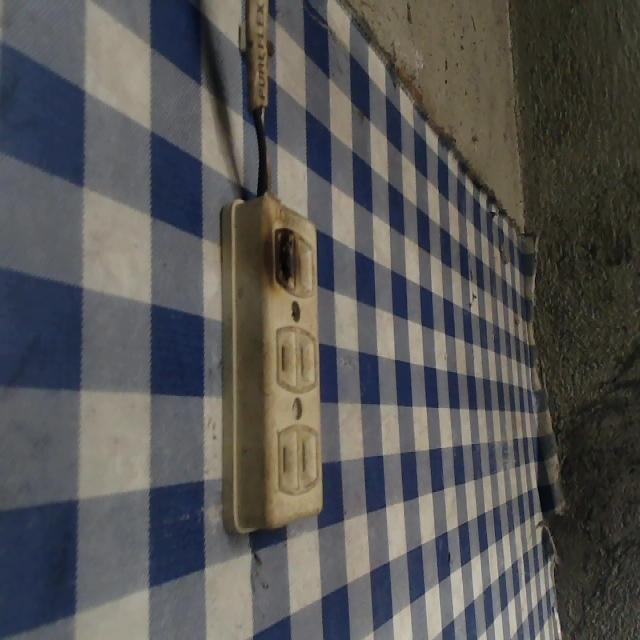-: (261, 220, 304, 299)
